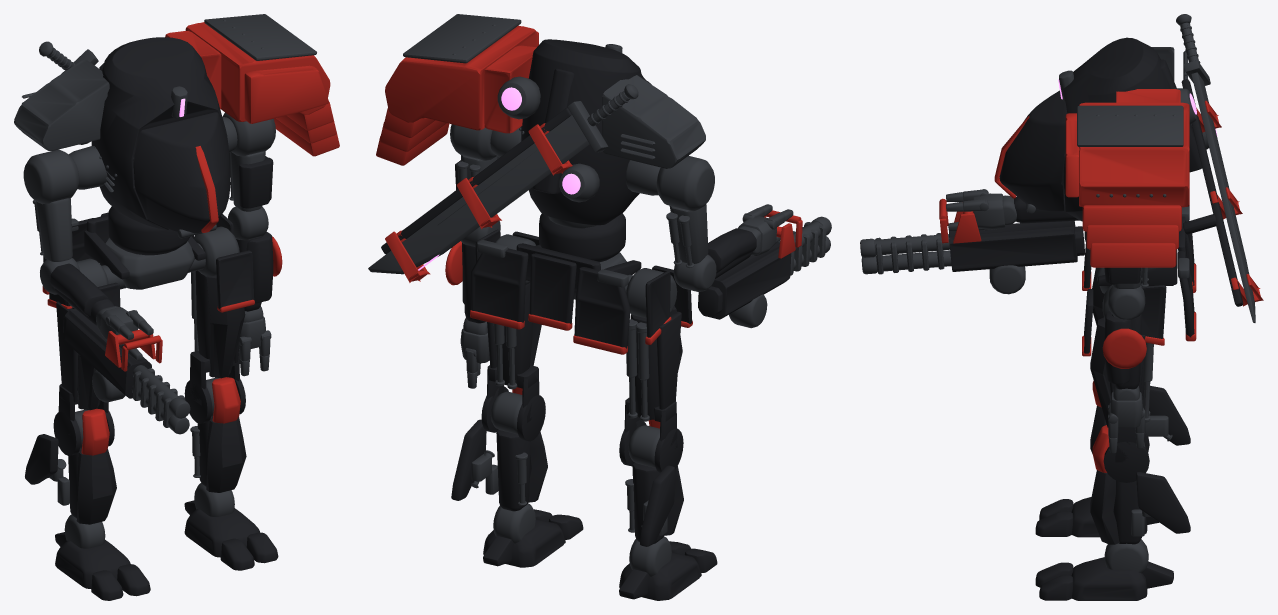
Rendered from Titan_L2.fbx.
3 views of the same model, side by side, from view 1: azimuth 30°, elevation 25°; view 2: azimuth 150°, elevation 25°; view 3: azimuth 270°, elevation 25° (orthographic). The views are drawn at different scales.
Visible parts, largest first — view 1: L2_Torso_Upper, L2_Hatch, L2_Pauldron_L, L2_Shoulder_Cap_R, L2_Pauldron_Trim_L, L2_Pelvis, L2_Shotgun_Body, L2_Shin_Plate_R, L2_Shin_Plate_L, L2_UpperArm_Hub_R, L2_Thigh_Plate_L, L2_Waist (+40 smaller); view 2: L2_Skirt_Back, L2_Pauldron_L, L2_Torso_Upper, L2_Sword_Blade, L2_Shoulder_Cap_R, L2_Shotgun_Body, L2_Pauldron_Trim_L, L2_Waist, L2_Rack_Clamps, L2_UpperArm_Hub_R, L2_Pauldron_Lames_L, L2_Thigh_Clevis_L (+48 smaller); view 3: L2_Pauldron_L, L2_Pauldron_Lames_L, L2_Hatch, L2_Shotgun_Body, L2_Torso_Upper, L2_Pauldron_Trim_L, L2_Foot_L, L2_Sword_Blade, L2_Shotgun_Barrels, L2_Rack, L2_Calf_Blade_L, L2_Thigh_Clevis_L (+27 smaller).
Boxes of the visible parts, x1,y1,x2,y2 form: L2_Torso_Upper: (91, 37, 227, 229); L2_Hatch: (133, 112, 230, 233); L2_Pauldron_L: (165, 22, 330, 123); L2_Shoulder_Cap_R: (14, 60, 109, 150); L2_Pauldron_Trim_L: (204, 14, 316, 60); L2_Pelvis: (102, 238, 205, 289); L2_Shotgun_Body: (63, 308, 151, 398); L2_Shin_Plate_R: (76, 449, 116, 524); L2_Shin_Plate_L: (206, 417, 246, 492); L2_UpperArm_Hub_R: (23, 149, 78, 204); L2_Thigh_Plate_L: (206, 275, 245, 378); L2_Waist: (108, 206, 190, 255); L2_Skirt_Back: (471, 248, 630, 348); L2_Pauldron_L: (385, 25, 538, 133); L2_Torso_Upper: (521, 39, 648, 225); L2_Sword_Blade: (368, 115, 589, 274); L2_Shoulder_Cap_R: (602, 75, 705, 168); L2_Shotgun_Body: (698, 242, 791, 319); L2_Pauldron_Trim_L: (403, 14, 521, 63); L2_Waist: (539, 213, 625, 262); L2_Rack_Clamps: (385, 123, 572, 282); L2_UpperArm_Hub_R: (656, 155, 714, 211); L2_Pauldron_Lames_L: (376, 108, 449, 165); L2_Thigh_Clevis_L: (481, 365, 545, 441); L2_Pauldron_L: (1065, 89, 1189, 207); L2_Pauldron_Lames_L: (1082, 205, 1181, 267); L2_Hatch: (999, 90, 1067, 211); L2_Shotgun_Body: (949, 221, 1084, 271); L2_Torso_Upper: (1063, 37, 1171, 221); L2_Pauldron_Trim_L: (1077, 105, 1183, 146); L2_Foot_L: (1071, 557, 1147, 600); L2_Sword_Blade: (1191, 72, 1255, 322); L2_Shotgun_Barrels: (860, 234, 951, 274); L2_Rack: (1181, 79, 1243, 306); L2_Calf_Blade_L: (1136, 472, 1190, 533); L2_Thigh_Clevis_L: (1103, 428, 1149, 482).
Bounding box in the file's own units: 3.54 × 5.87 × 4.24.
